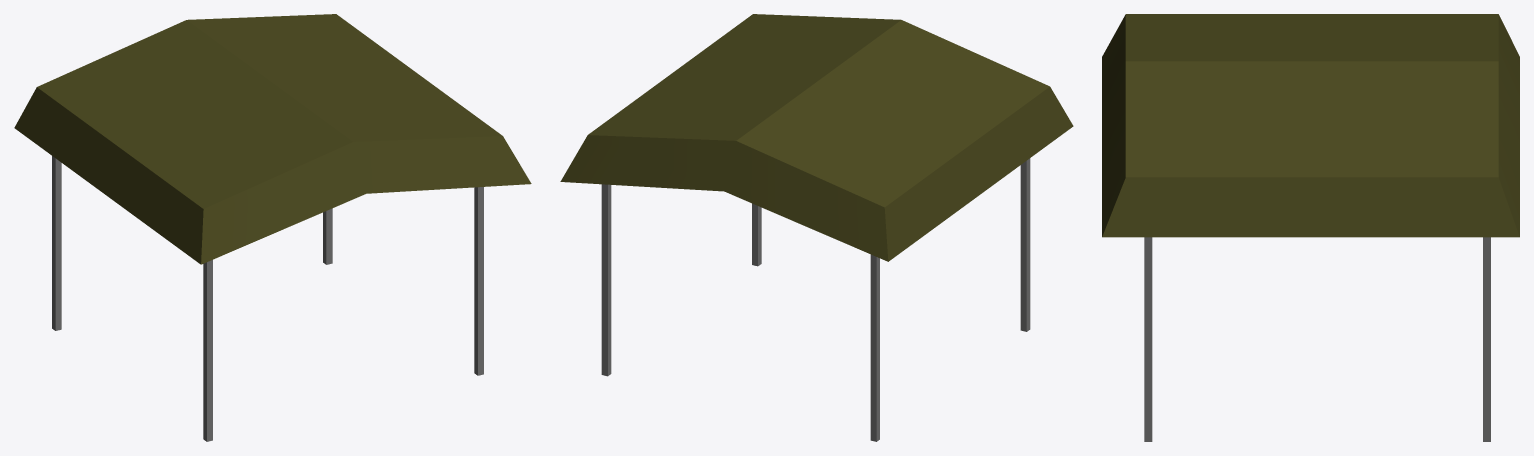
The model's file is SM_Tent1.fbx.
3 renders of one model, left to right at view 1: azimuth 30°, elevation 25°; view 2: azimuth 150°, elevation 25°; view 3: azimuth 270°, elevation 25°, orthographic. The views are drawn at different scales.
Parts seen in each view (by area): view 1: Tent1; view 2: Tent1; view 3: Tent1.
Part boxes in pixels (x1,y1,x2,y2): Tent1: (14, 14, 531, 441); Tent1: (560, 14, 1073, 441); Tent1: (1102, 14, 1519, 441).
Size of the model in its own units: 163 by 128 by 159.
